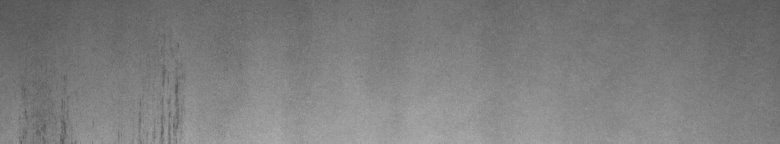ka: (139, 67, 184, 136)
